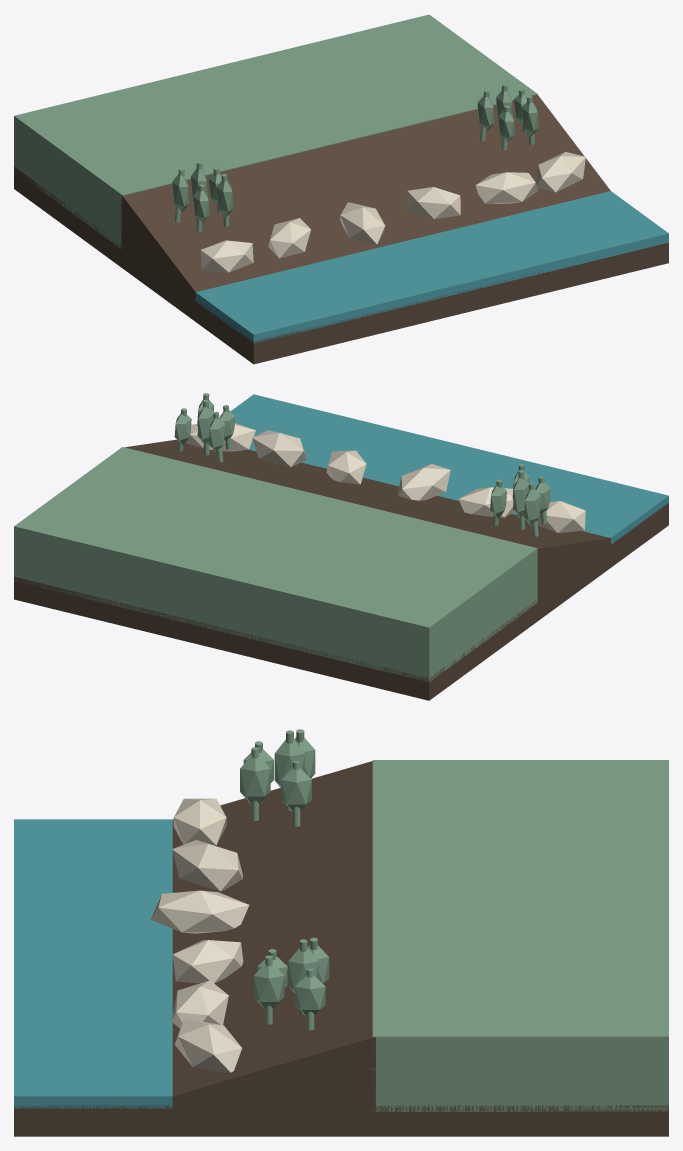
The model's file is bank_straight.glb.
3 renders of one model, top to bottom at view 1: azimuth 30°, elevation 25°; view 2: azimuth 150°, elevation 25°; view 3: azimuth 270°, elevation 25°, orthographic. The views are drawn at different scales.
Parts seen in each view (by area): view 1: bank_straight soil, bank_straight pine, bank_straight water, bank_straight mist, bank_straight leaf; view 2: bank_straight pine, bank_straight soil, bank_straight water, bank_straight mist, bank_straight leaf; view 3: bank_straight pine, bank_straight soil, bank_straight water, bank_straight mist, bank_straight leaf.
Boxes of the visible parts, box(x1,y1,x2,y2) form: bank_straight soil: box(14, 94, 668, 364); bank_straight pine: box(14, 14, 537, 249); bank_straight water: box(195, 191, 668, 343); bank_straight mist: box(200, 151, 585, 272); bank_straight leaf: box(172, 90, 538, 222); bank_straight pine: box(14, 393, 547, 681); bank_straight soil: box(14, 439, 668, 700); bank_straight water: box(230, 394, 668, 544); bank_straight mist: box(185, 423, 585, 532); bank_straight leaf: box(174, 399, 550, 526); bank_straight pine: box(251, 729, 668, 1111); bank_straight soil: box(14, 761, 668, 1136); bank_straight water: box(14, 819, 172, 1108); bank_straight mist: box(151, 798, 249, 1072); bank_straight leaf: box(240, 737, 329, 1015).
Bounding box in the file's own units: 0.95 × 0.2546 × 0.95.
